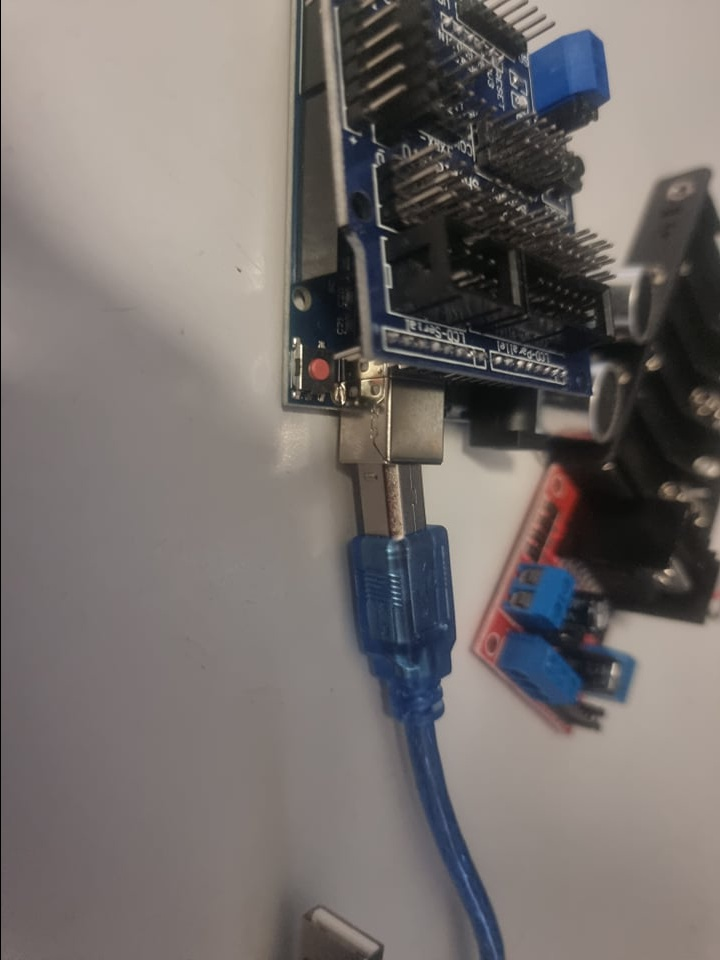5V EXPANSION: (355, 5, 617, 370)
BATTERY BOX: (627, 166, 719, 515)
MOTOR: (467, 467, 717, 738)
UNO R3: (271, 369, 582, 466)
